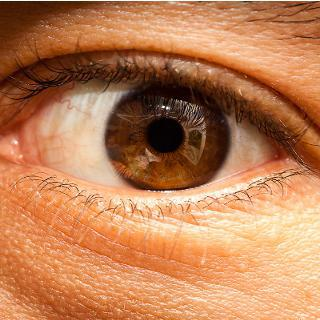pupil: (148, 117, 183, 152)
